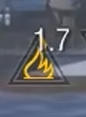1fire: (3, 57, 72, 86)
